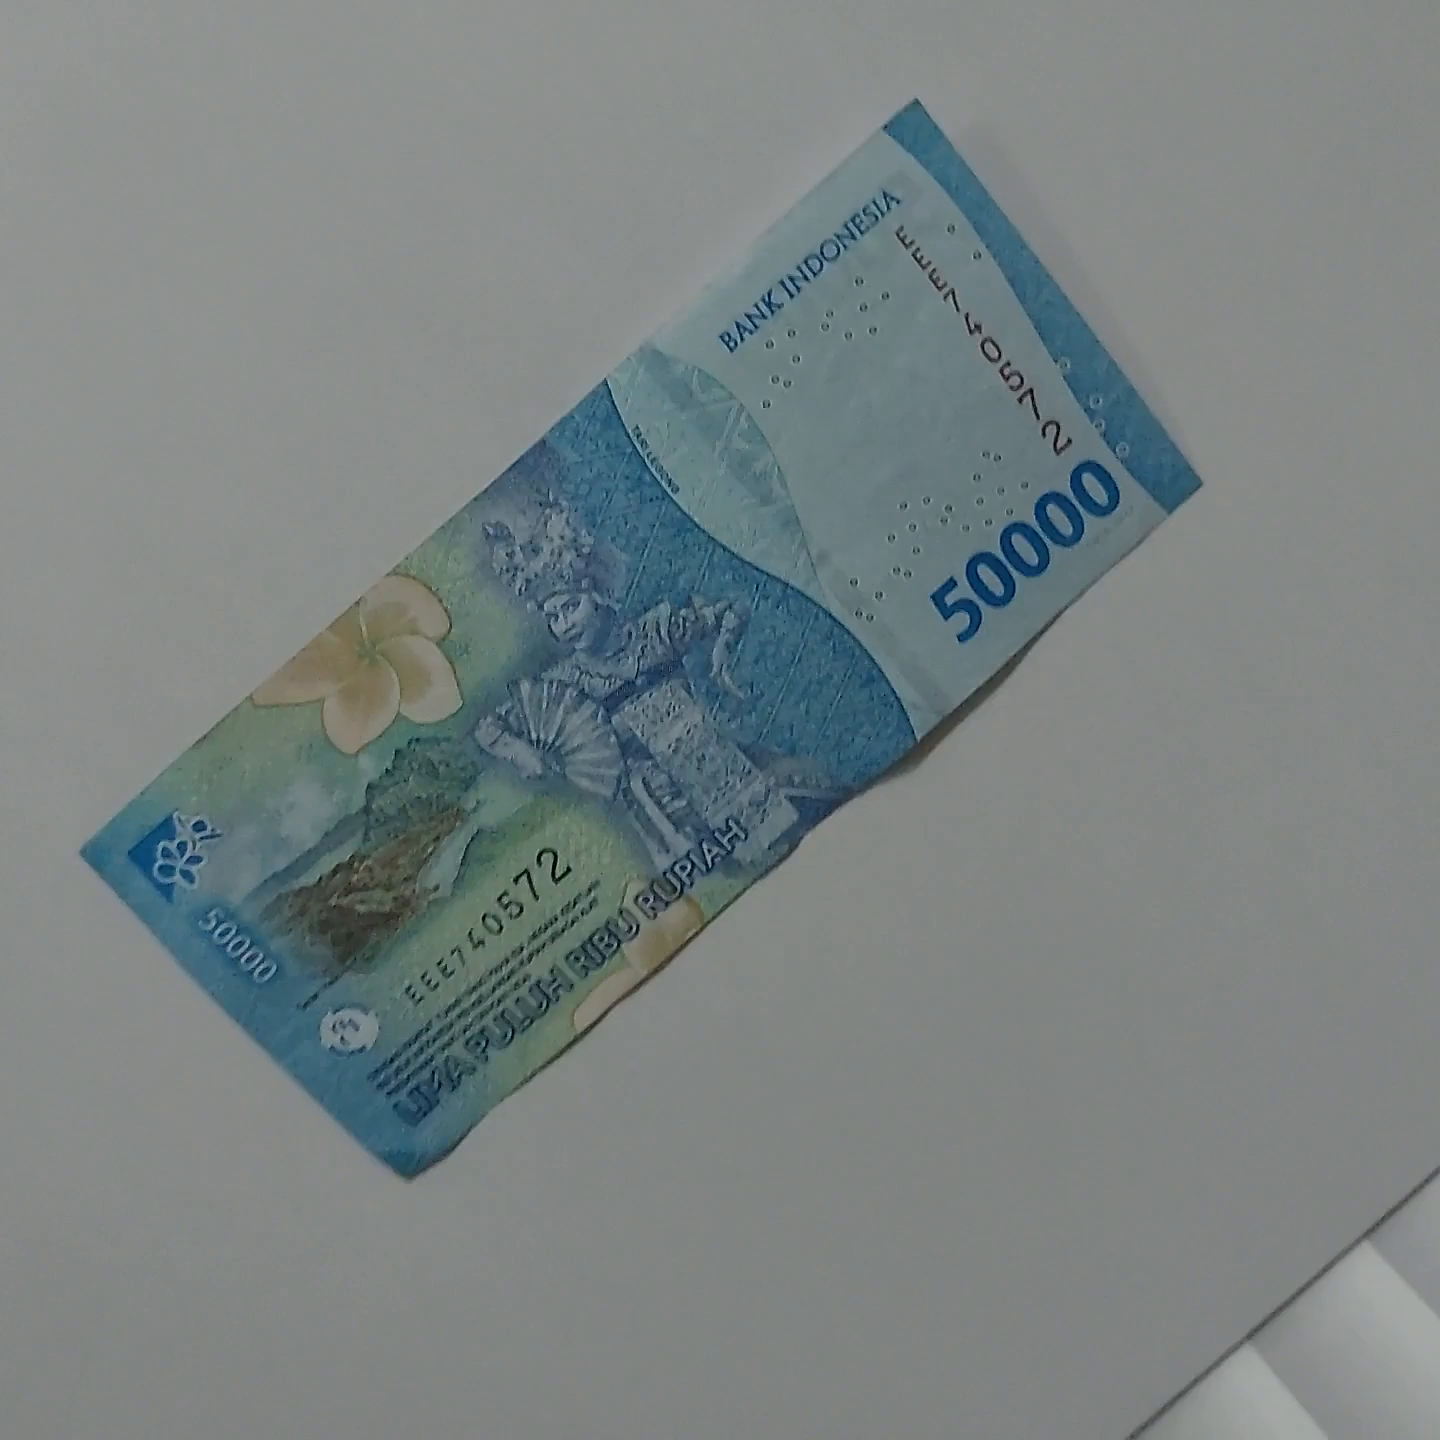50k: (919, 86, 1440, 1233)
